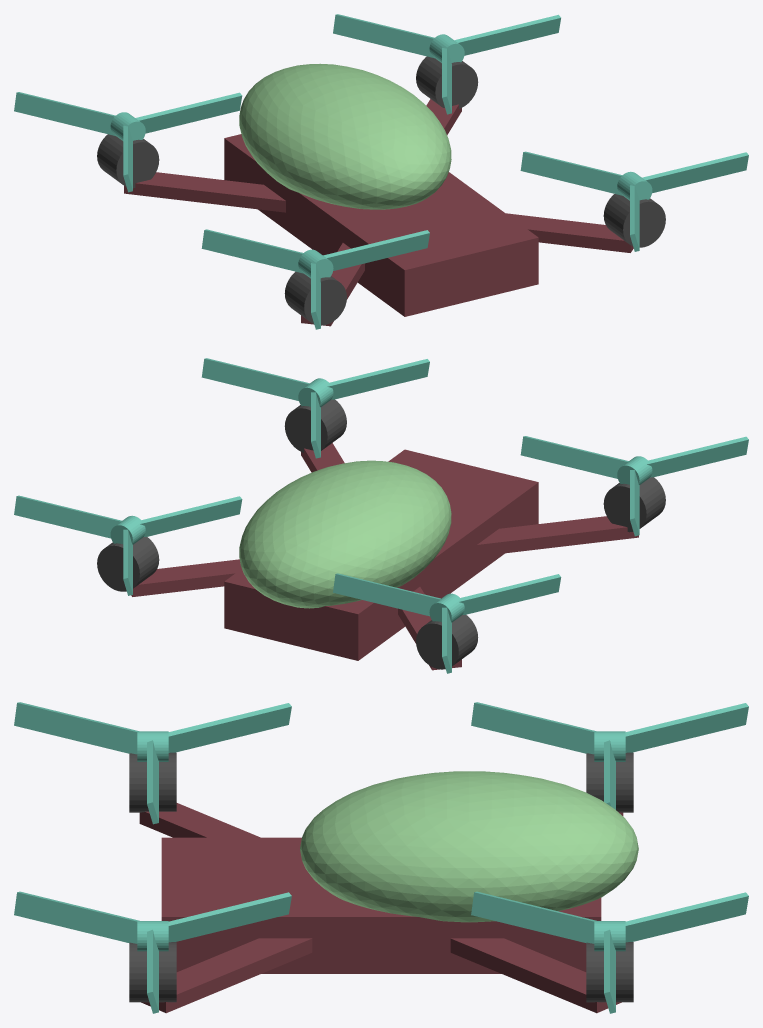
Rendered from SkyX Killer.glb.
3 renders of one model, top to bottom at view 1: azimuth 30°, elevation 25°; view 2: azimuth 150°, elevation 25°; view 3: azimuth 270°, elevation 25°, orthographic. The views are drawn at different scales.
Parts seen in each view (by area): view 1: canopy, frame_body, prop_2, prop_0, prop_3, prop_1, arm_3, arm_0, motor_0, motor_2, motor_3, motor_1 (+2 smaller); view 2: canopy, frame_body, prop_2, prop_3, prop_0, prop_1, arm_2, arm_1, motor_1, motor_3, motor_2, motor_0 (+2 smaller); view 3: canopy, frame_body, prop_2, prop_0, prop_1, prop_3, arm_1, arm_0, arm_2, motor_1, motor_0, motor_2 (+1 smaller).
Part boxes in pixels (bbox=[...]): canopy: bbox=[239, 63, 451, 209]; frame_body: bbox=[224, 134, 538, 316]; prop_2: bbox=[201, 229, 429, 329]; prop_0: bbox=[520, 151, 748, 251]; prop_3: bbox=[14, 92, 242, 192]; prop_1: bbox=[333, 14, 560, 114]; arm_3: bbox=[124, 172, 285, 212]; arm_0: bbox=[506, 213, 633, 252]; motor_0: bbox=[603, 194, 665, 247]; motor_2: bbox=[284, 271, 346, 325]; motor_3: bbox=[97, 134, 159, 188]; motor_1: bbox=[416, 56, 478, 108]; canopy: bbox=[239, 460, 451, 608]; frame_body: bbox=[224, 449, 538, 660]; prop_2: bbox=[520, 436, 748, 536]; prop_3: bbox=[333, 573, 561, 673]; prop_0: bbox=[201, 358, 429, 458]; prop_1: bbox=[14, 495, 242, 595]; arm_2: bbox=[477, 516, 638, 556]; arm_1: bbox=[131, 559, 241, 596]; motor_1: bbox=[97, 537, 159, 591]; motor_3: bbox=[416, 615, 478, 669]; motor_2: bbox=[603, 477, 665, 532]; motor_0: bbox=[284, 399, 346, 452]; canopy: bbox=[300, 771, 638, 922]; frame_body: bbox=[161, 837, 601, 973]; prop_2: bbox=[14, 702, 291, 824]; prop_0: bbox=[14, 891, 291, 1013]; prop_1: bbox=[471, 891, 748, 1013]; prop_3: bbox=[471, 702, 748, 809]; arm_1: bbox=[450, 938, 621, 1013]; arm_0: bbox=[141, 938, 312, 1013]; arm_2: bbox=[139, 803, 260, 837]; motor_1: bbox=[586, 942, 633, 1002]; motor_0: bbox=[129, 942, 176, 1002]; motor_2: bbox=[129, 752, 176, 812].
Bounding box in the file's own units: 0.2195 × 0.0516 × 0.2341.
